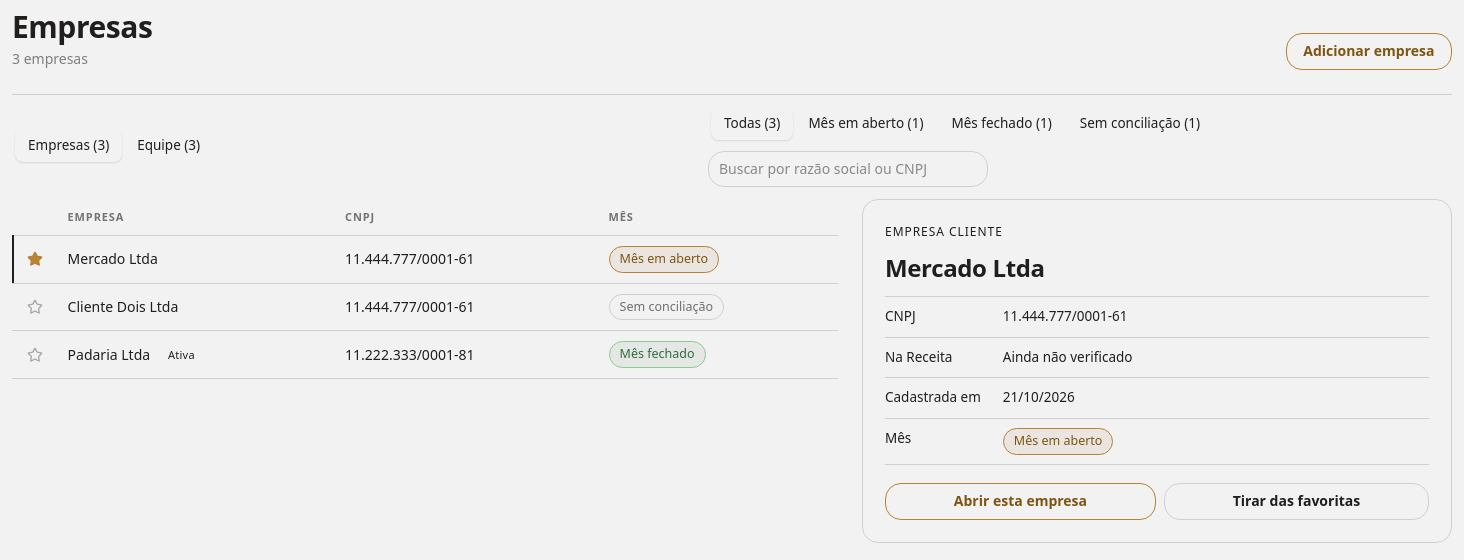
Test: a situação do mês e as favoritas › o filtro pela situação do mês deixa só as daquela situação
Click the button "Mês fechado (1)". click: (1002, 124)
box: [938,108,1065,140]
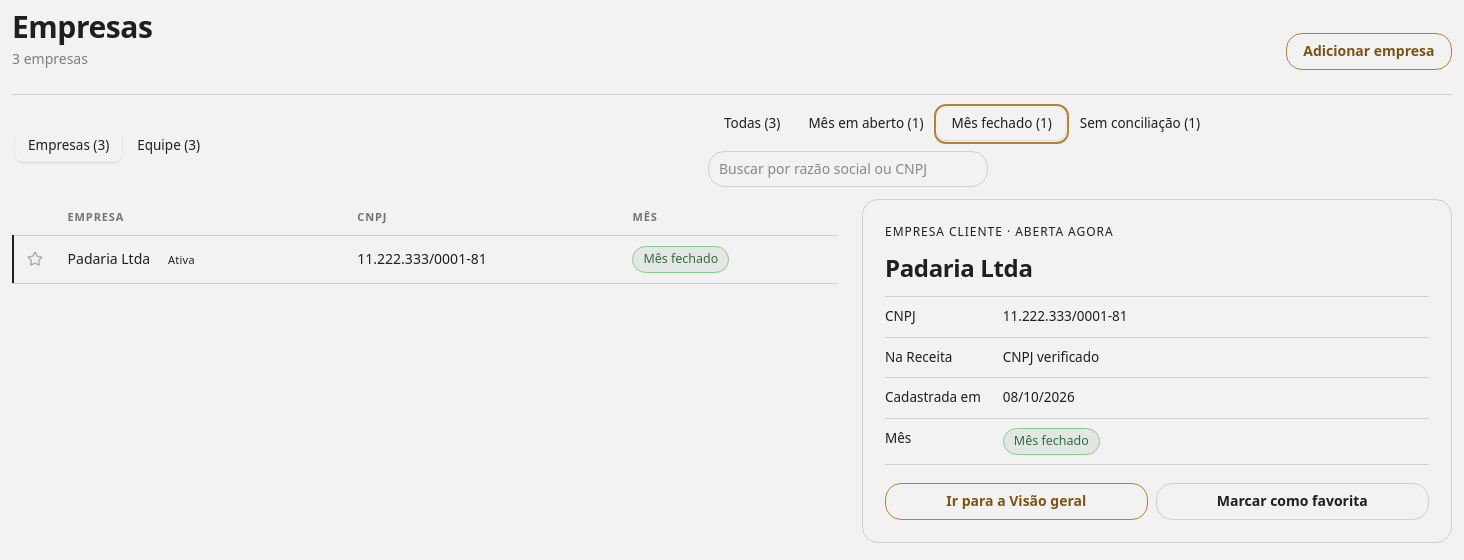
expect the number of rows is 2: met, box [12,199,838,236]; [12,235,838,283]
expect the heading "Padaria Ltda" is shown: met, box [885,251,1033,284]
Click the button "Todas (3)". click: (752, 124)
box: [711,108,793,140]
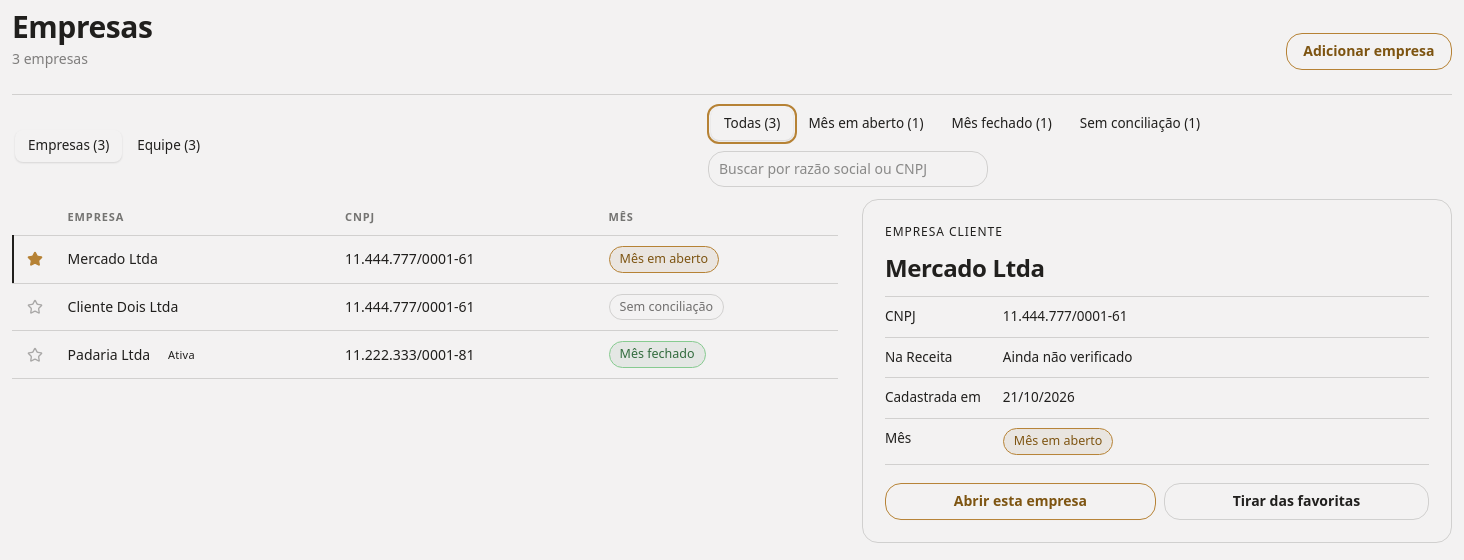
expect the number of rows is 4: met, box [12,199,838,236]; [12,235,838,283]; [12,283,838,331]; [12,331,838,379]
